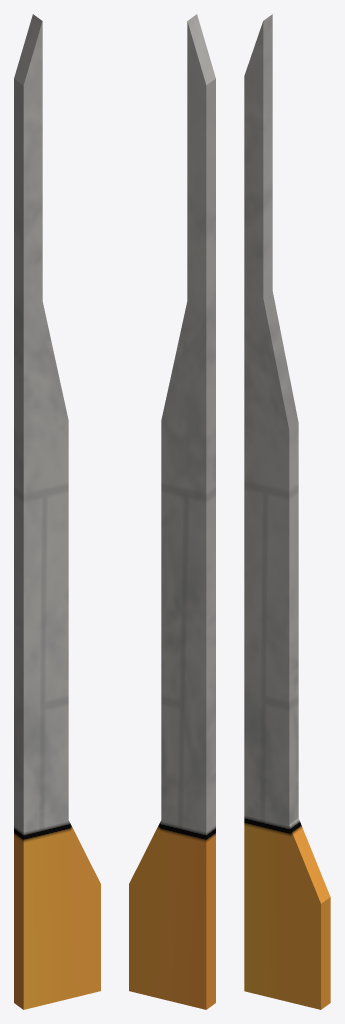
Rendered from antenna_3.fbx.
3 views of the same model, side by side, from view 1: azimuth 30°, elevation 25°; view 2: azimuth 150°, elevation 25°; view 3: azimuth 330°, elevation 25° (orthographic).
Visible parts, largest first — view 1: antenna_3; view 2: antenna_3; view 3: antenna_3.
Part boxes in pixels (<box>): antenna_3: <box>14,14,100,1009</box>; antenna_3: <box>129,14,215,1009</box>; antenna_3: <box>244,14,330,1009</box>.
Bounding box in the file's own units: 5.55 × 67.48 × 1.19.
